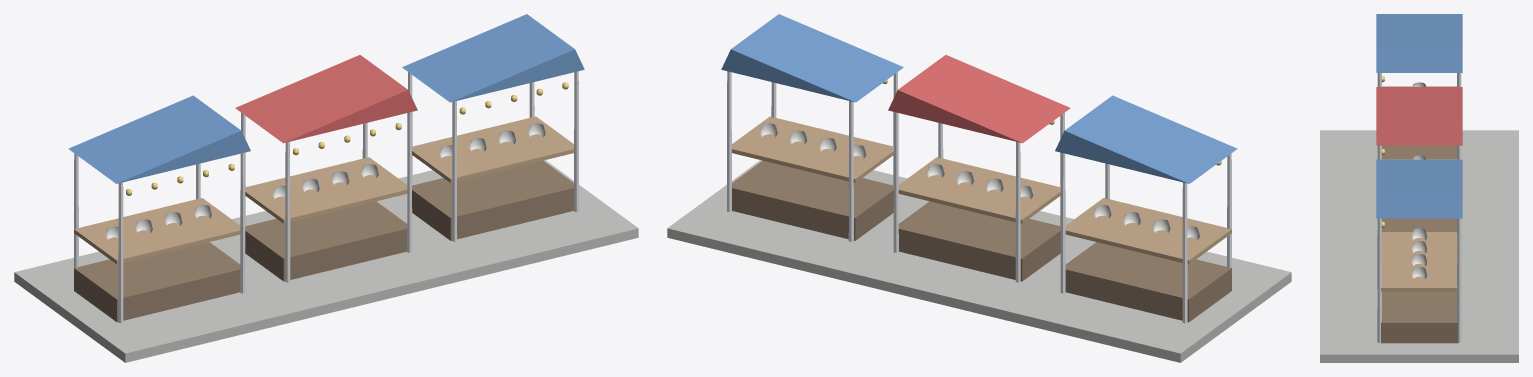
The model's file is martial-arts-dojo-and-fight-stages-night-market-set-ff618b20__18080.glb.
3 renders of one model, left to right at view 1: azimuth 30°, elevation 25°; view 2: azimuth 150°, elevation 25°; view 3: azimuth 270°, elevation 25°, orthographic. The views are drawn at different scales.
Visible parts, largest first — view 1: night-market-set; view 2: night-market-set; view 3: night-market-set.
Boxes of the visible parts, x1,y1,x2,y2 form: night-market-set: (14,14,638,362); night-market-set: (667,14,1291,362); night-market-set: (1320,14,1518,362).
Bounding box in the file's own units: 8 × 2.58 × 3.
